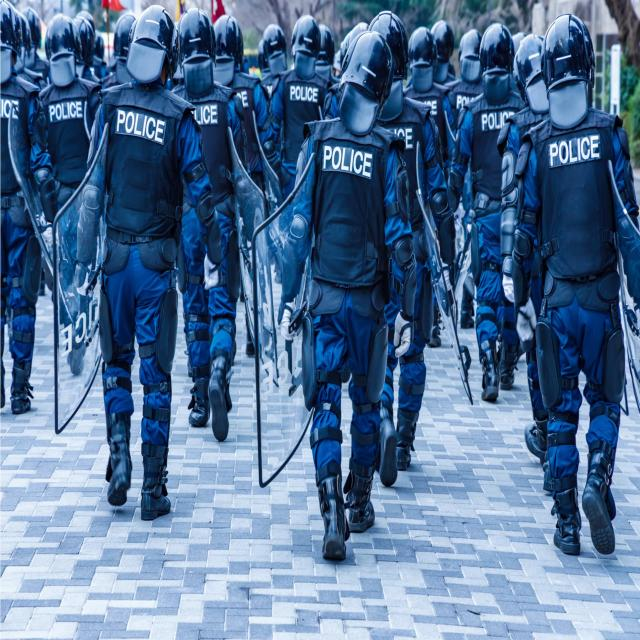police: (54, 0, 249, 534), (255, 4, 394, 561), (504, 0, 640, 546), (352, 2, 474, 489), (153, 4, 281, 447), (0, 0, 103, 440), (448, 0, 530, 421)
